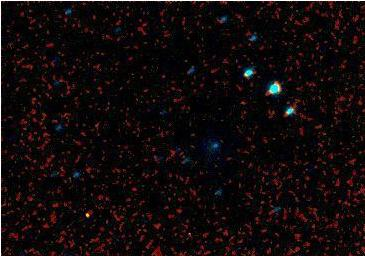star: (77, 205, 107, 235)
